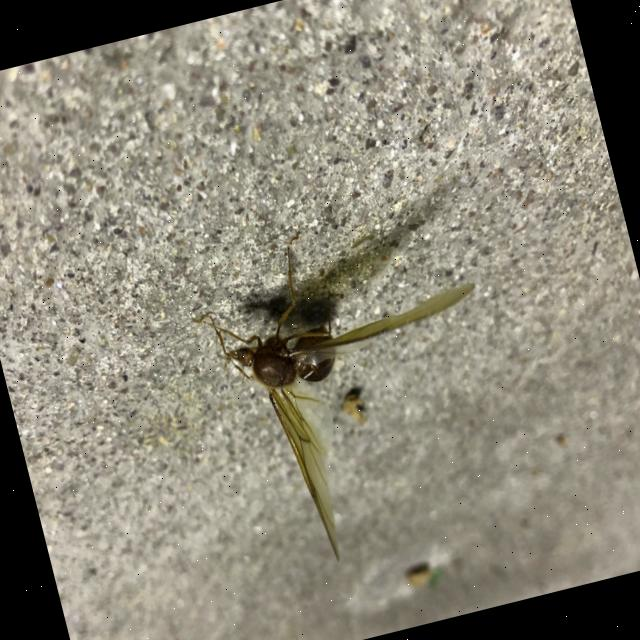Alive-Male-Alate: (179, 196, 532, 581)
